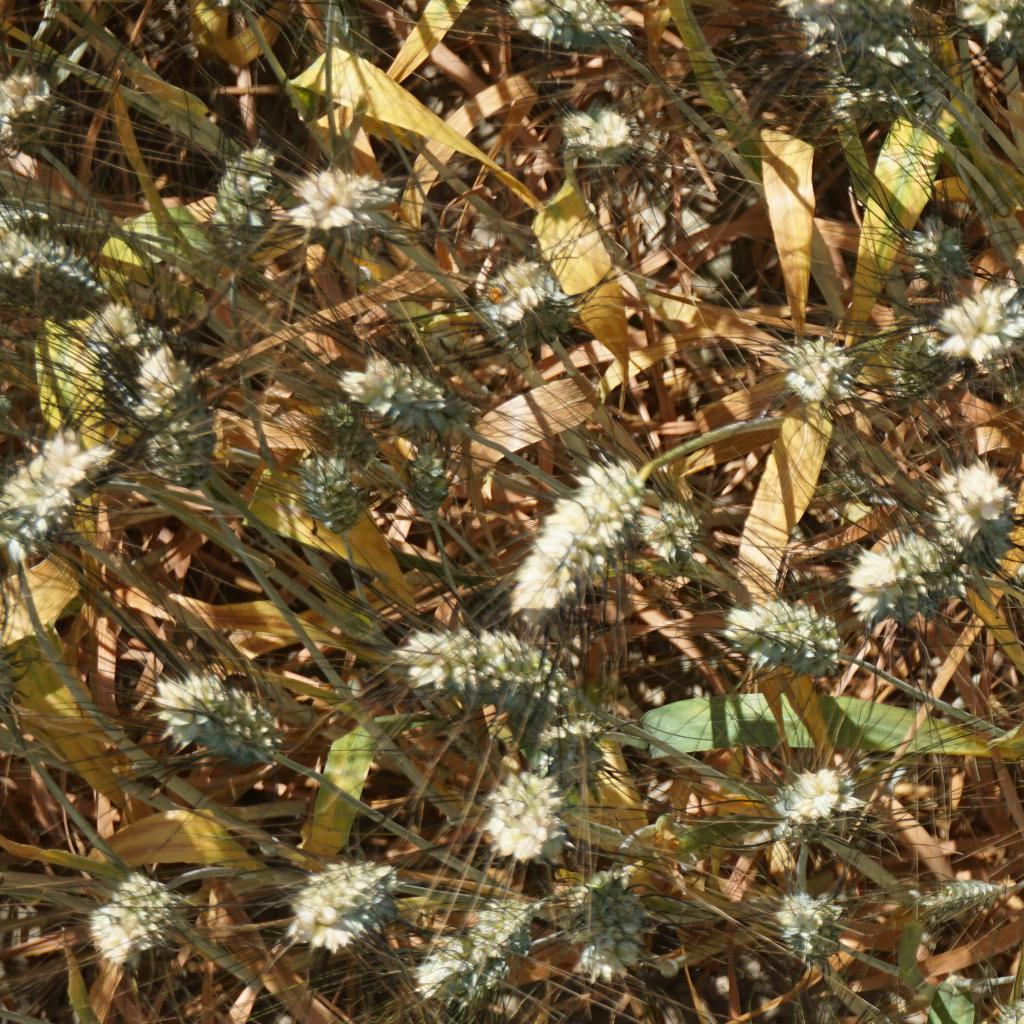0-0: (484, 457, 638, 606), (380, 611, 565, 709), (141, 662, 294, 775), (717, 585, 877, 687), (336, 350, 488, 449), (181, 140, 280, 289), (278, 845, 401, 963), (0, 216, 123, 328), (69, 866, 201, 956), (0, 231, 128, 321), (463, 246, 566, 342), (925, 460, 1019, 563), (573, 873, 655, 991), (275, 164, 391, 246), (837, 531, 934, 627), (928, 275, 1024, 363), (482, 768, 568, 860), (81, 307, 168, 397), (0, 52, 74, 157), (773, 335, 866, 414), (517, 0, 637, 61), (419, 935, 514, 1012), (144, 387, 220, 474), (763, 763, 855, 827), (816, 69, 913, 128), (0, 489, 69, 570), (771, 0, 912, 39), (31, 433, 112, 500), (290, 457, 356, 536), (774, 885, 844, 956), (400, 434, 457, 515), (901, 220, 972, 285), (641, 492, 704, 560), (536, 714, 599, 780), (846, 18, 921, 73), (887, 326, 944, 395), (316, 402, 379, 463), (918, 868, 997, 915), (561, 109, 631, 157), (973, 0, 1024, 60), (470, 899, 534, 942), (830, 461, 873, 508)
